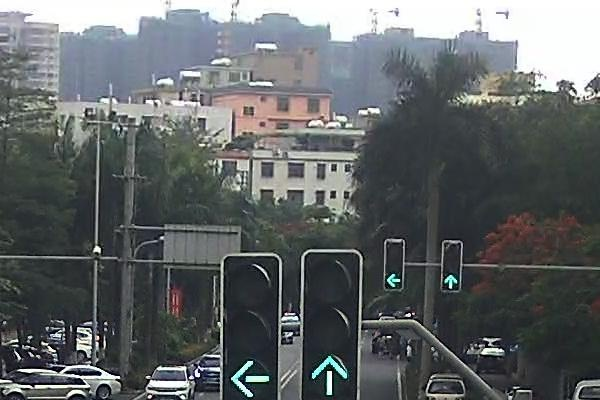greenleft: (228, 356, 271, 399), (385, 273, 402, 290)
greenstraight: (310, 353, 351, 398), (441, 272, 459, 292)
